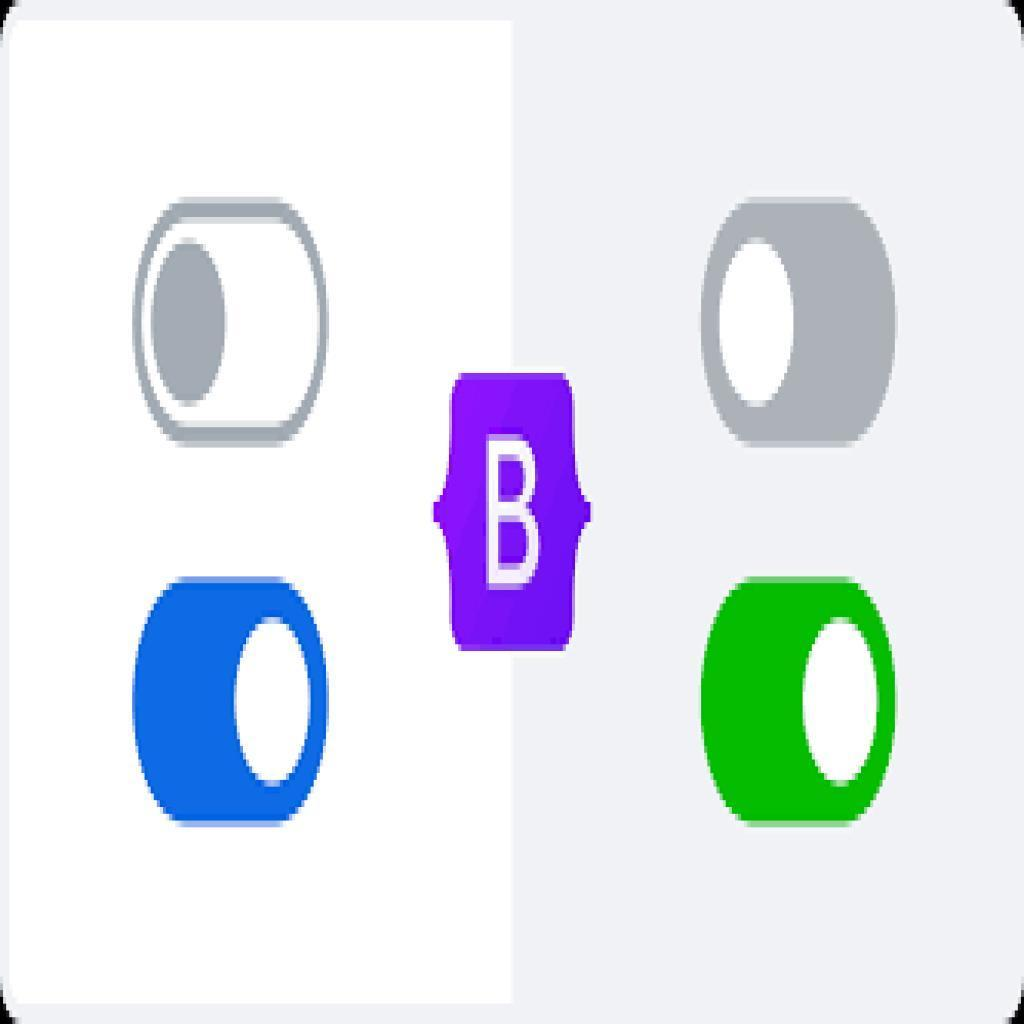switch: (127, 579, 335, 826), (127, 202, 334, 445), (699, 578, 898, 827), (706, 201, 898, 447)
